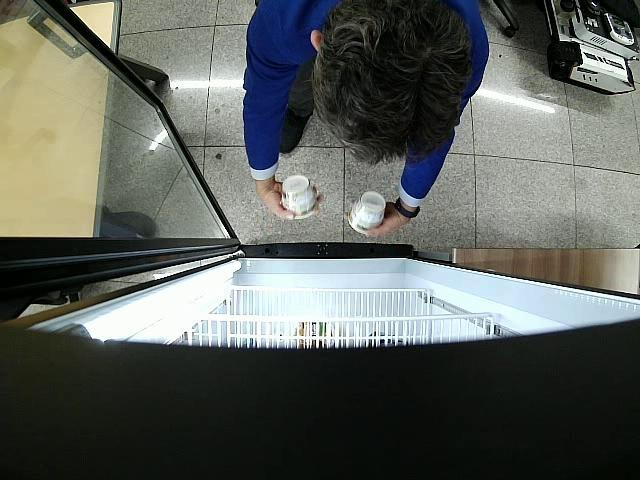04_chapagetti_S: (280, 175, 320, 219), (348, 190, 386, 234)
